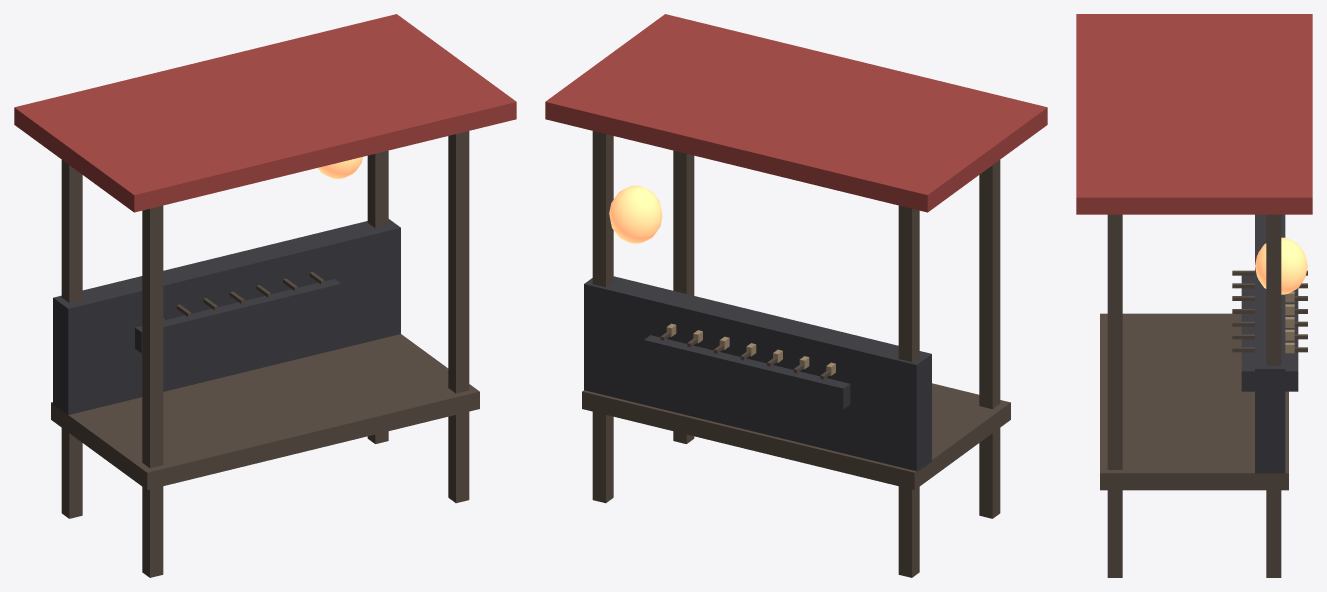
Rendered from prop_yatai_yakitori.glb.
3 renders of one model, left to right at view 1: azimuth 30°, elevation 25°; view 2: azimuth 150°, elevation 25°; view 3: azimuth 270°, elevation 25°, orthographic.
Visible parts, largest first — view 1: yatai_yakitori; view 2: yatai_yakitori; view 3: yatai_yakitori.
Boxes of the visible parts, x1,y1,x2,y2 form: yatai_yakitori: (14, 14, 516, 577); yatai_yakitori: (545, 14, 1047, 577); yatai_yakitori: (1076, 14, 1312, 577).
Bounding box in the file's own units: 2.3 × 2.31 × 1.25.
